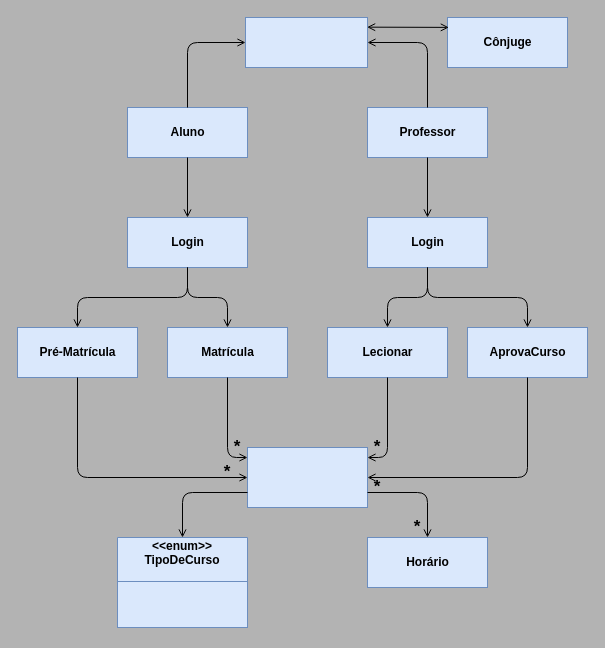
Some shapes in this 605 by 648 pixel diagram are drawn without their labels. Each missing label, with the box of its shape:
Disciplina: (246, 446, 368, 508)
Pessoa: (244, 16, 368, 68)
REGULAR("Regular"), FERIAS("Férias");: (116, 580, 248, 628)
